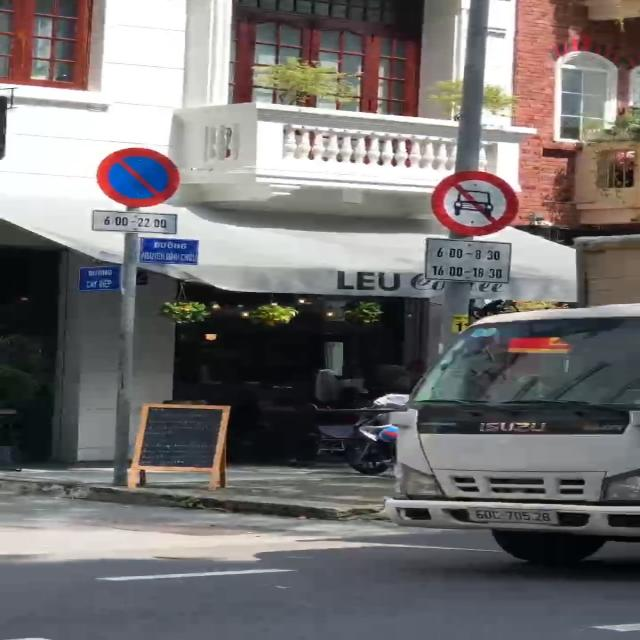Bien bao cam do xe: (90, 143, 185, 212)
Bien bao cam xe oto: (428, 168, 522, 237)
